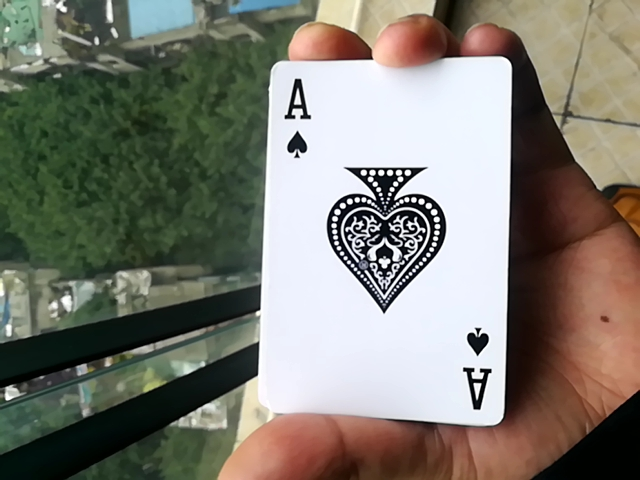ht a: (246, 73, 505, 429)
